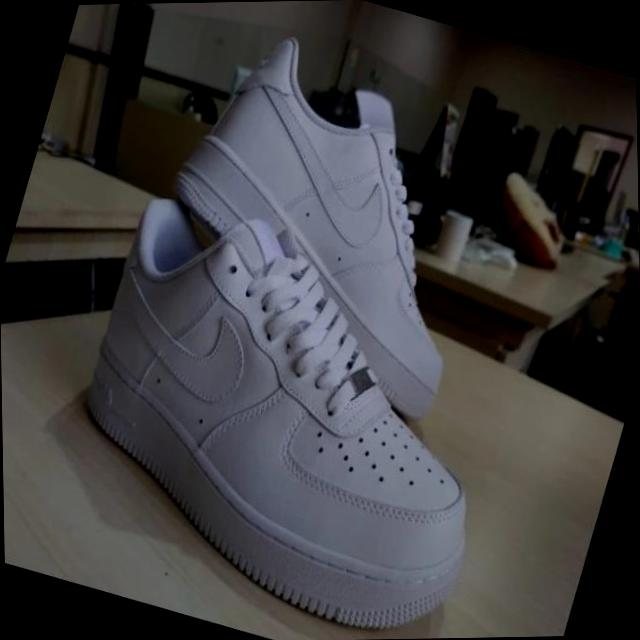nike_original_airforce: (37, 179, 543, 640), (122, 8, 528, 428)
